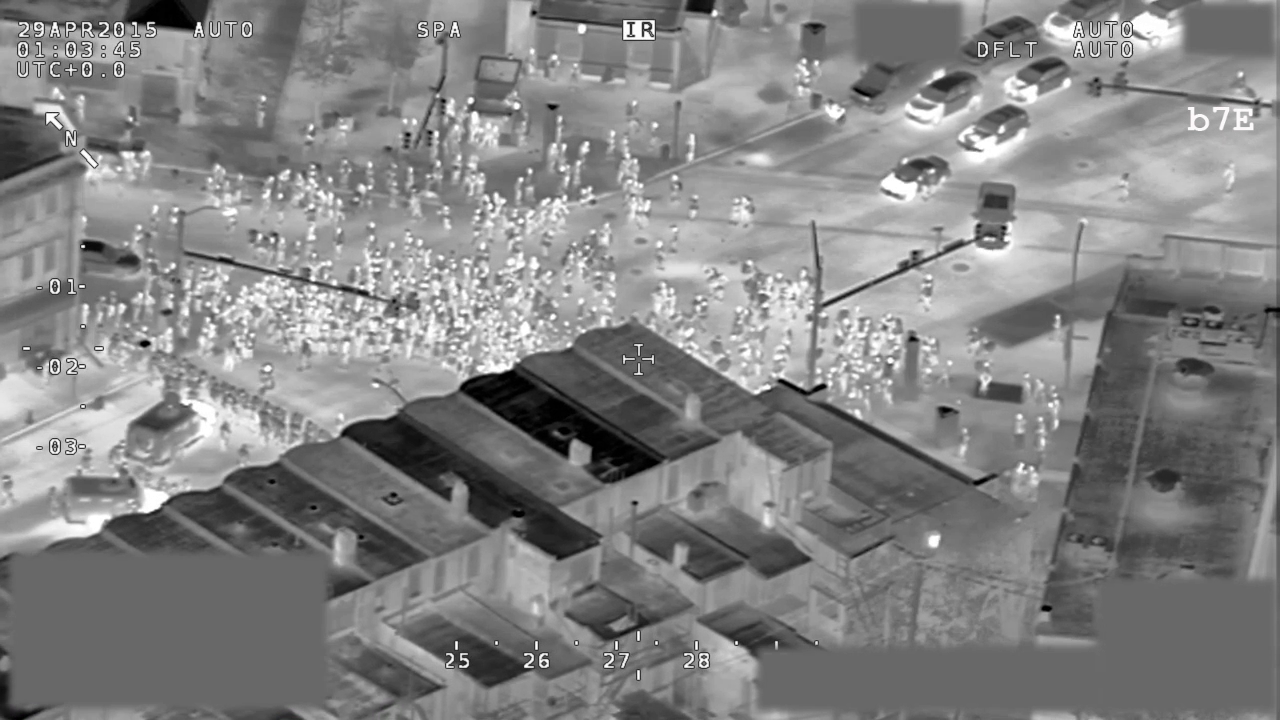vehicle: (121, 388, 221, 470), (59, 469, 174, 530), (901, 70, 985, 130), (954, 15, 1037, 69), (954, 103, 1031, 160), (875, 154, 954, 203), (969, 176, 1019, 252), (1005, 55, 1074, 103)
